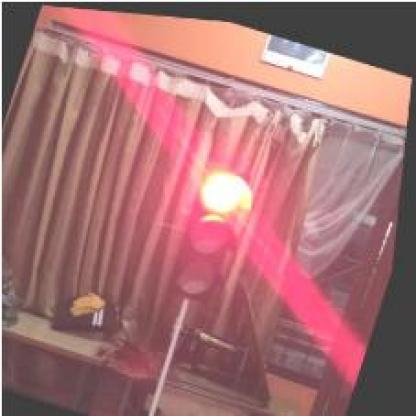red: (174, 155, 258, 298)
